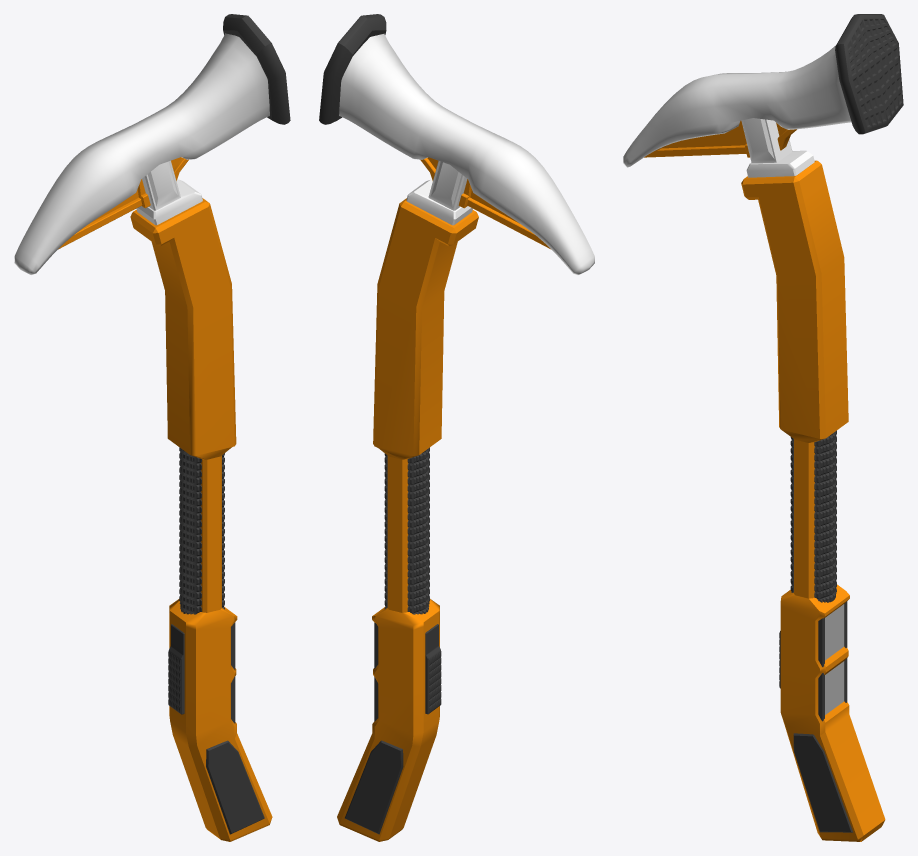
Rendered from Hammer.fbx.
3 renders of one model, left to right at view 1: azimuth 30°, elevation 25°; view 2: azimuth 150°, elevation 25°; view 3: azimuth 330°, elevation 25°, orthographic.
Visible parts, largest first — view 1: Hammer; view 2: Hammer; view 3: Hammer.
Part boxes in pixels (bbox=[...]): Hammer: bbox=[14, 14, 290, 841]; Hammer: bbox=[319, 14, 594, 841]; Hammer: bbox=[623, 14, 903, 841].
Size of the model in its own units: 0.9979 by 3.03 by 0.3398.
